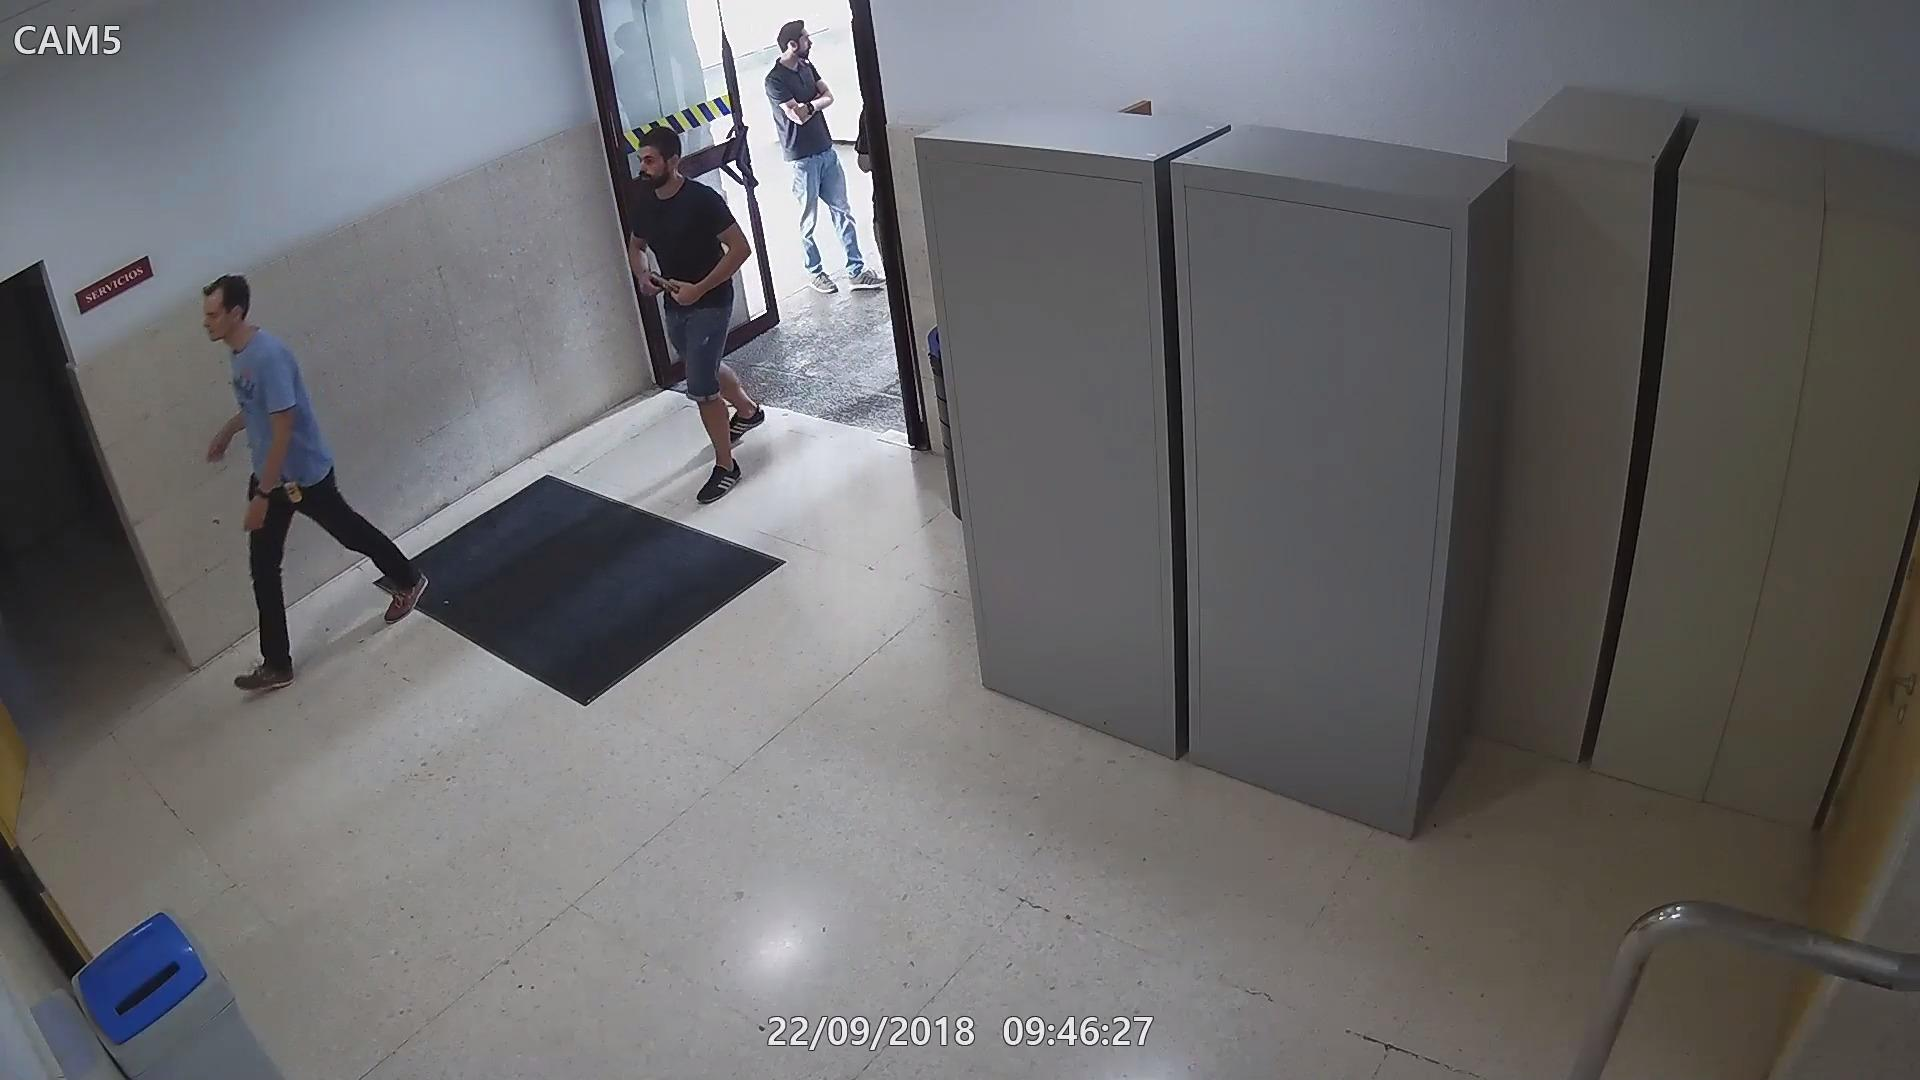Handgun: (638, 269, 686, 299)
